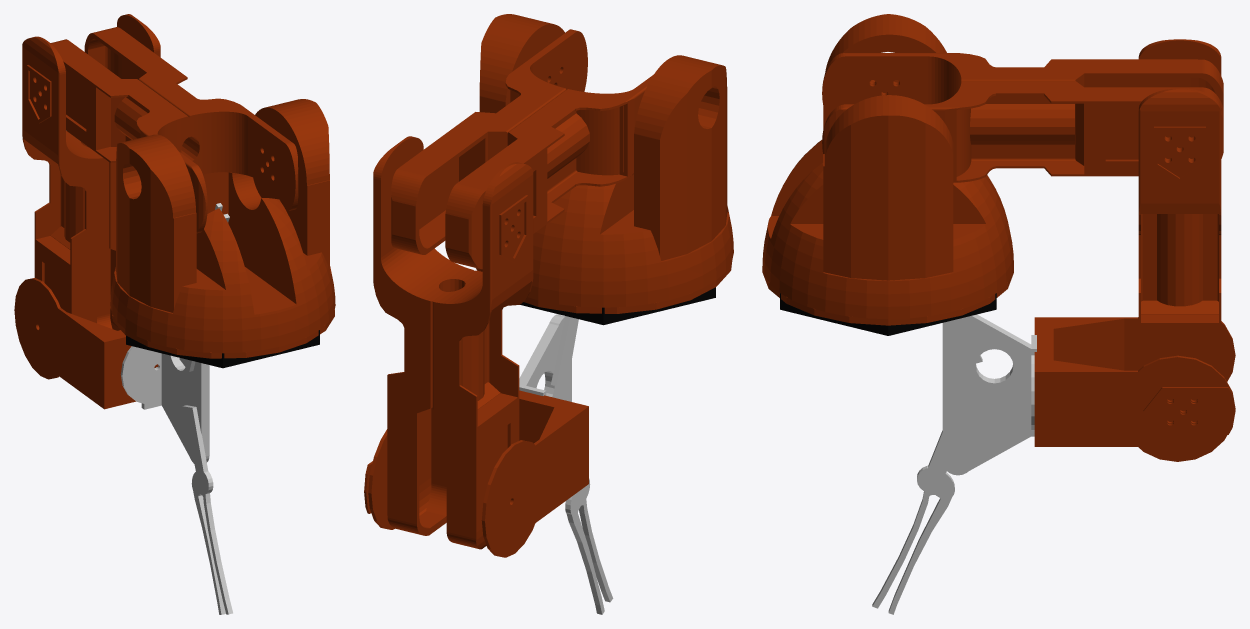
The model's file is braccio.dae.
3 views of the same model, side by side, from view 1: azimuth 30°, elevation 25°; view 2: azimuth 150°, elevation 25°; view 3: azimuth 270°, elevation 25° (orthographic). The views are drawn at different scales.
Parts seen in each view (by area): view 1: braccio_base_link, shoulder_link, elbow_link, wrist_pitch_link, wrist_roll_link, left_gripper_link, base_link; view 2: elbow_link, braccio_base_link, shoulder_link, wrist_pitch_link, wrist_roll_link, left_gripper_link, base_link, right_gripper_link; view 3: braccio_base_link, shoulder_link, elbow_link, wrist_pitch_link, wrist_roll_link, left_gripper_link, base_link.
Boxes of the visible parts, left/top/right/bottom form: braccio_base_link: left=110, top=99, right=335, bottom=358; shoulder_link: left=50, top=27, right=298, bottom=233; elbow_link: left=22, top=14, right=160, bottom=330; wrist_pitch_link: left=14, top=278, right=158, bottom=409; wrist_roll_link: left=120, top=346, right=209, bottom=463; left_gripper_link: left=182, top=405, right=232, bottom=614; base_link: left=126, top=330, right=319, bottom=368; elbow_link: left=373, top=136, right=533, bottom=549; braccio_base_link: left=476, top=14, right=733, bottom=313; shoulder_link: left=391, top=29, right=653, bottom=269; wrist_pitch_link: left=364, top=390, right=588, bottom=557; wrist_roll_link: left=519, top=314, right=571, bottom=401; left_gripper_link: left=565, top=478, right=613, bottom=614; base_link: left=520, top=287, right=715, bottom=325; right_gripper_link: left=551, top=316, right=578, bottom=385; braccio_base_link: left=762, top=14, right=1013, bottom=325; shoulder_link: left=822, top=53, right=1223, bottom=182; elbow_link: left=1138, top=39, right=1221, bottom=421; wrist_pitch_link: left=1034, top=317, right=1235, bottom=461; wrist_roll_link: left=942, top=314, right=1036, bottom=475; left_gripper_link: left=872, top=430, right=954, bottom=614; base_link: left=780, top=293, right=996, bottom=335.
Bounding box in the file's own units: 0.1065 × 0.2002 × 0.2562.
